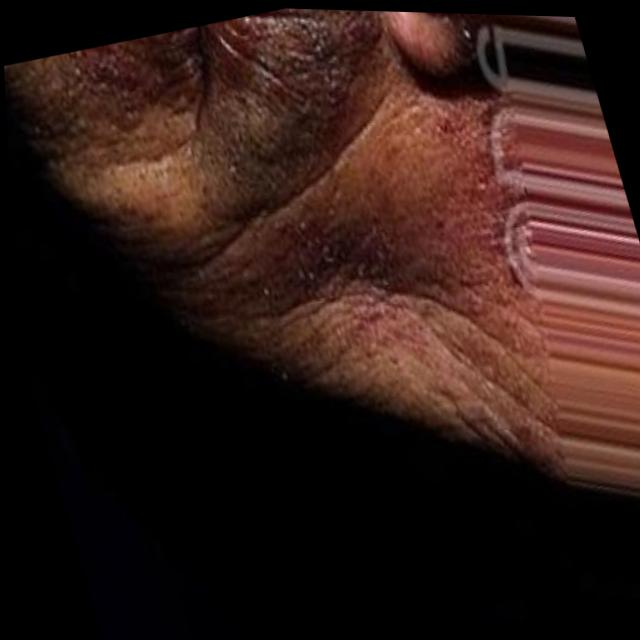Rosacea: (404, 114, 529, 302)
